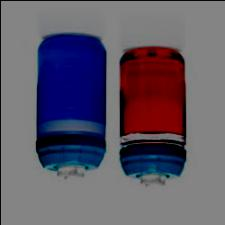Plastic: (36, 34, 107, 182), (118, 45, 185, 188)
